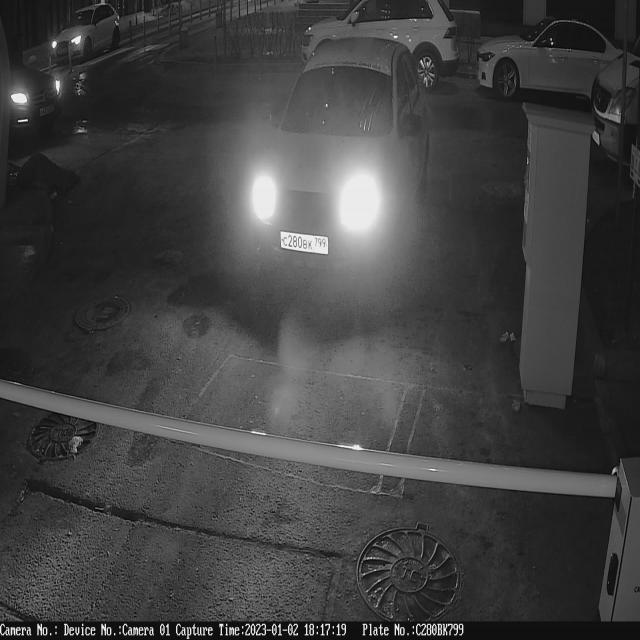car-plate-numbers: (280, 229, 332, 260)
